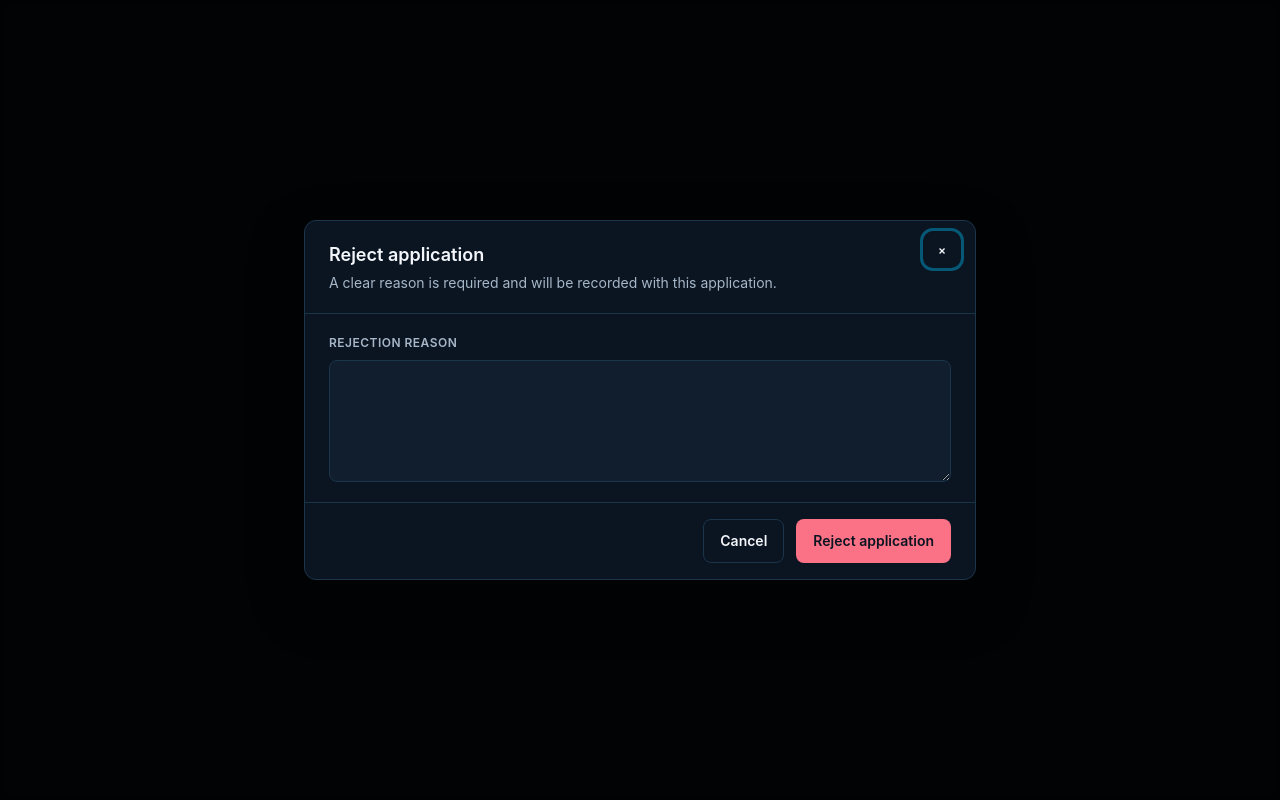
Scenario: ApplicationRejectionModal › requires a nonblank reason and submits the trimmed value
Later steps or results of the test are not shown.
Click the button "Reject application": (874,541) [796, 519, 951, 563]
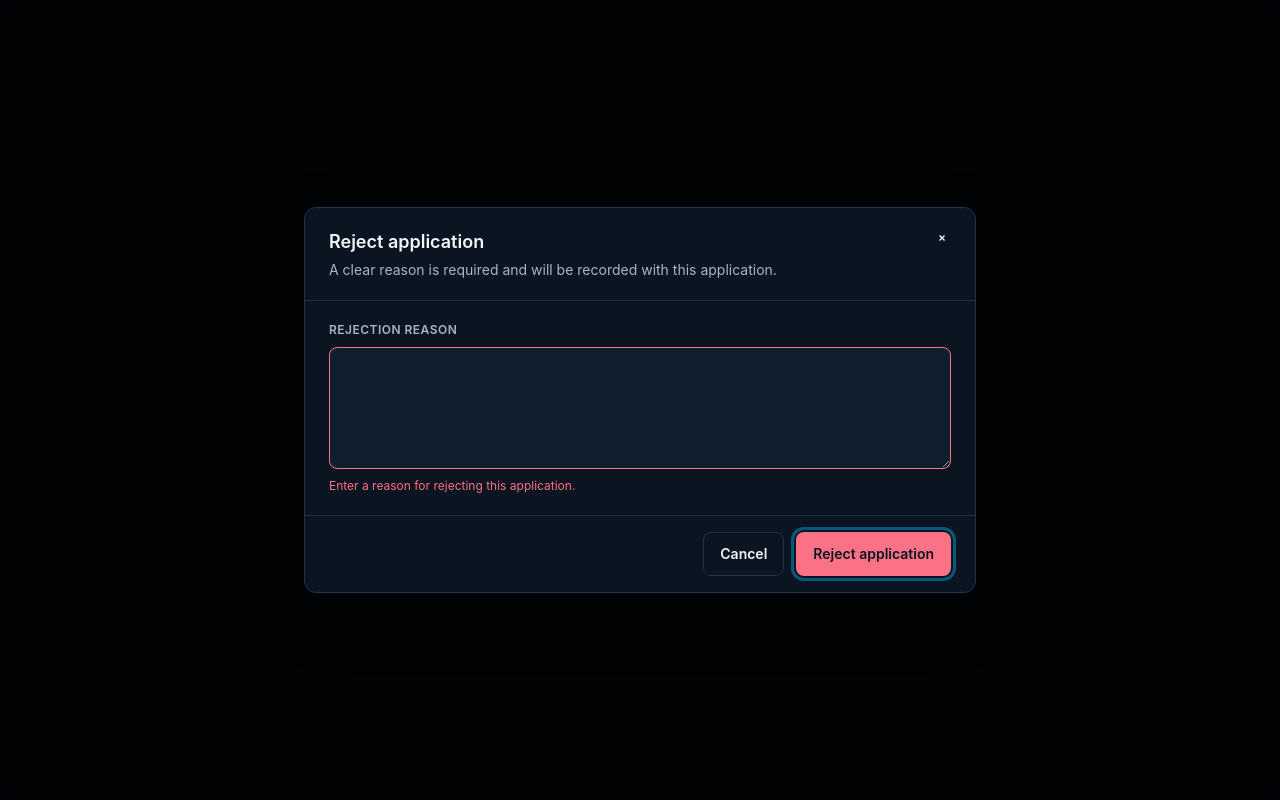
Expected: the text "Enter a reason for rejecting this application." is shown, [329, 478, 575, 493]
